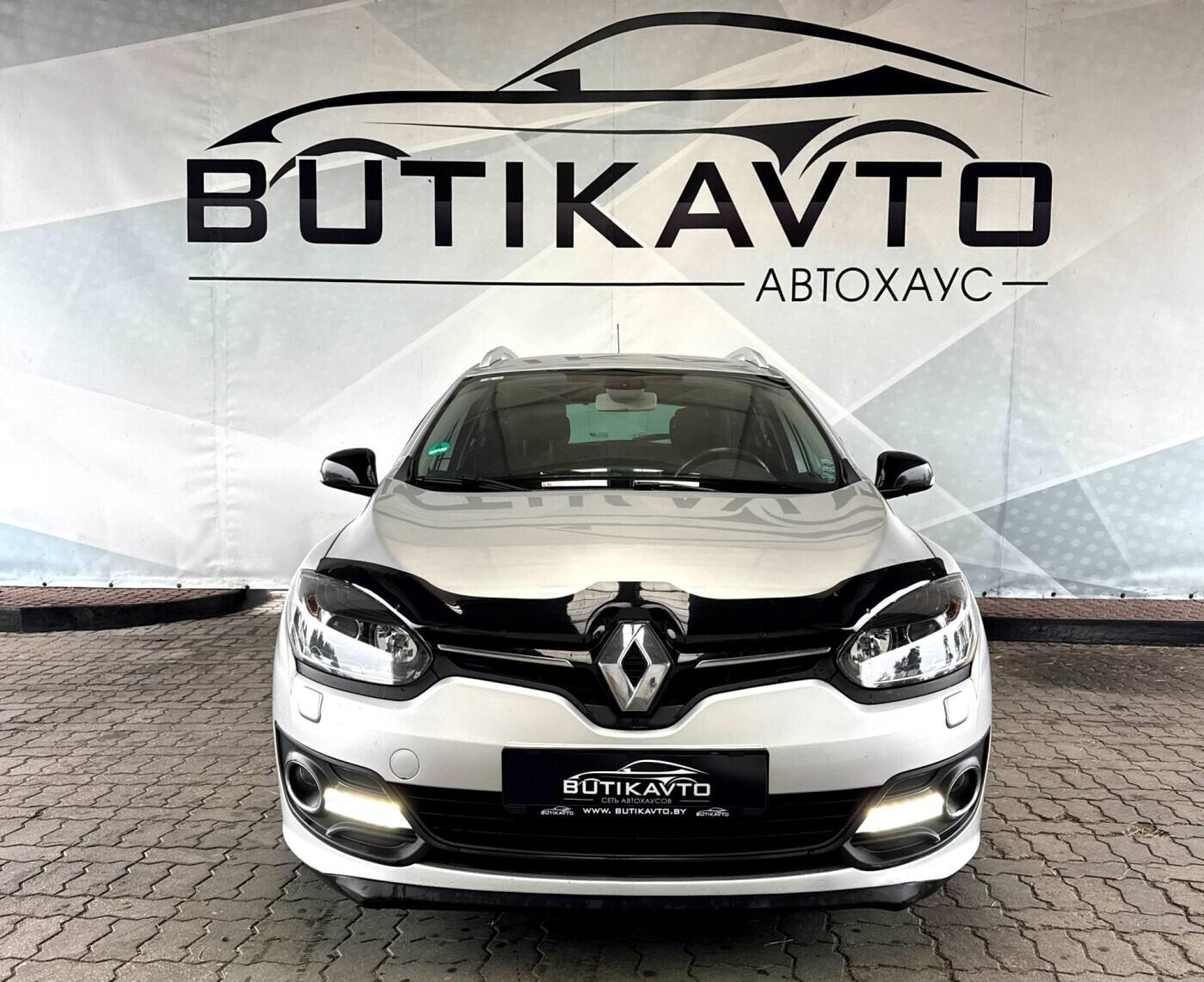Megane_2014-2016: (274, 348, 991, 916)
